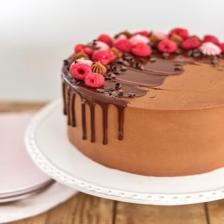brown: (63, 63, 224, 177), (116, 68, 166, 87), (96, 81, 147, 97), (142, 58, 182, 75)
